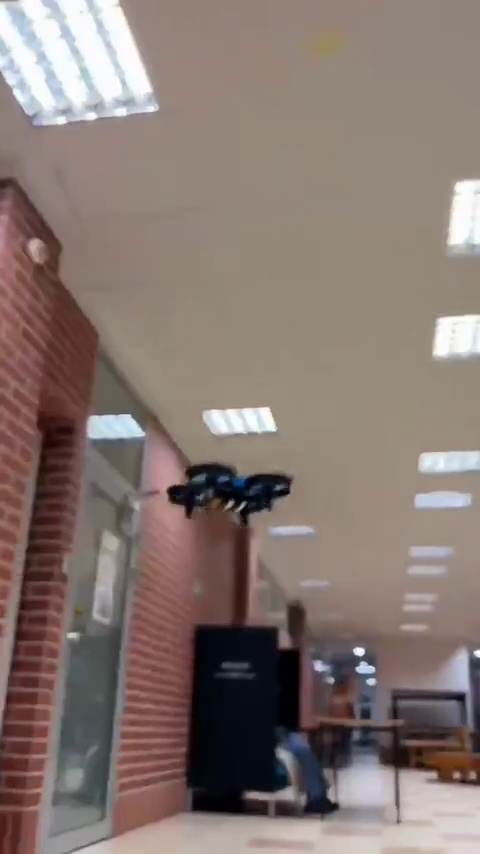drone: (164, 466, 289, 517)
